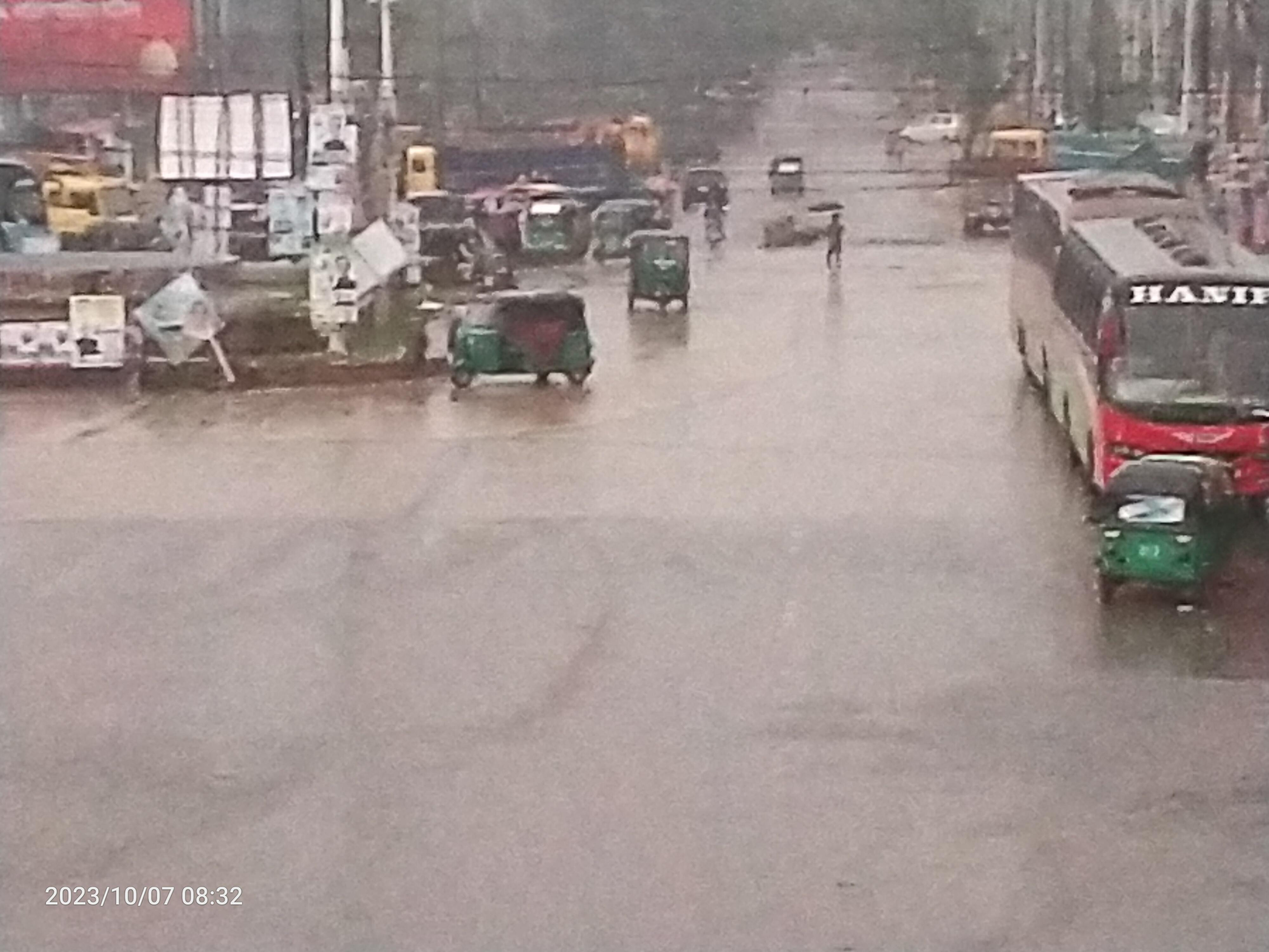Bus: (1033, 202, 1269, 535)
Truck: (379, 128, 619, 210), (16, 139, 159, 257)
